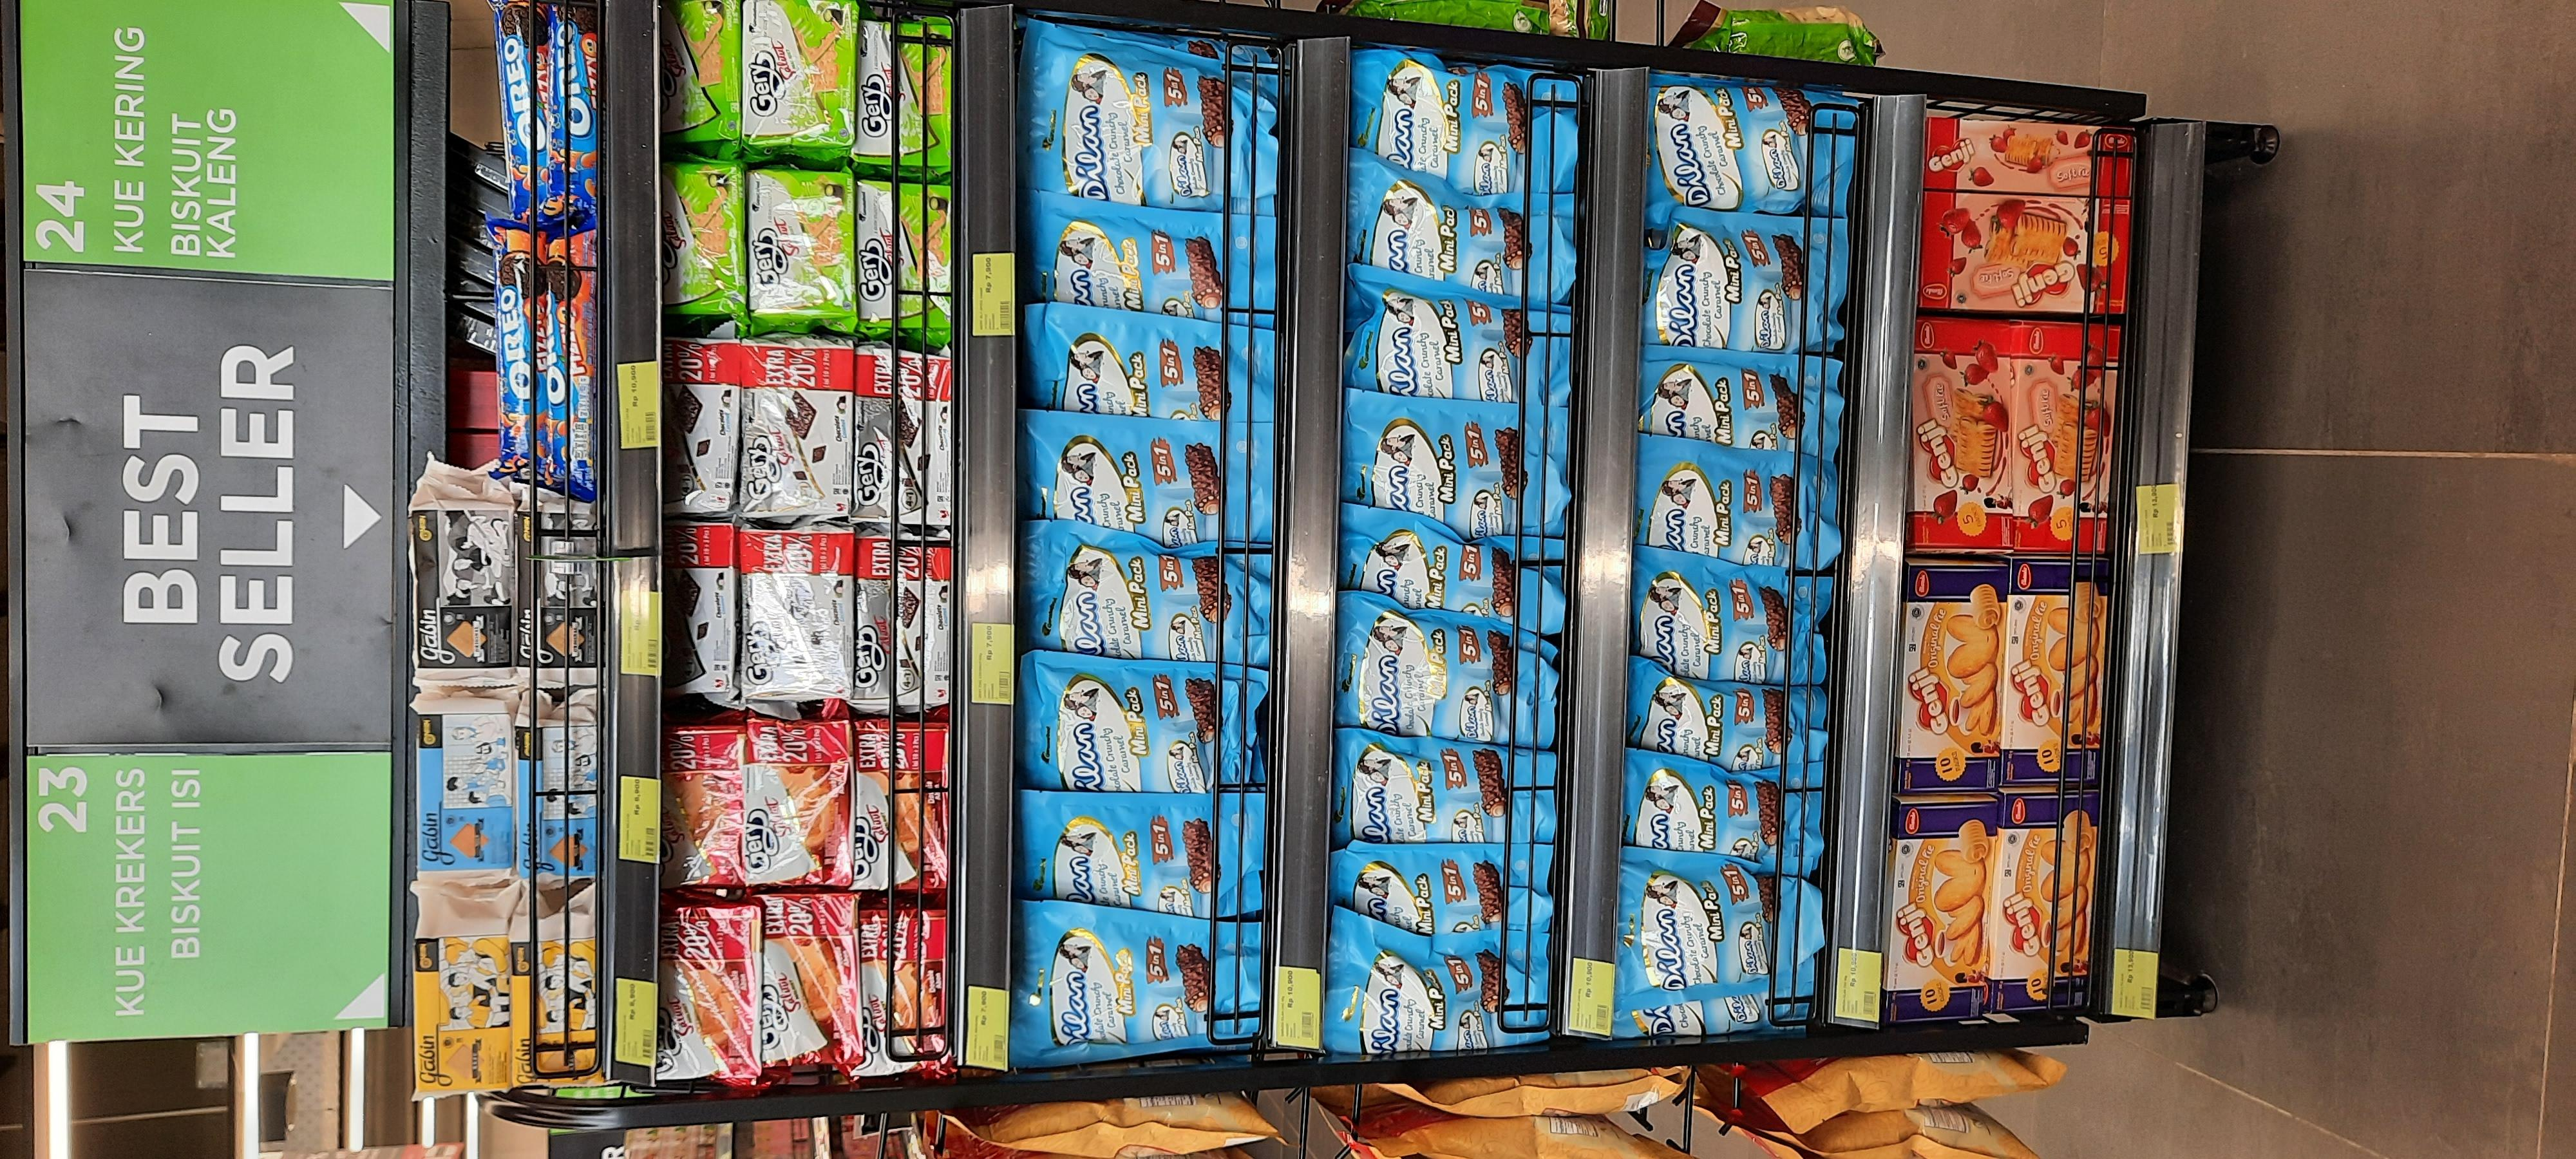90101225212101: (743, 2, 853, 146), (748, 171, 853, 320), (853, 23, 954, 166), (856, 182, 954, 328)
90101225218101: (744, 346, 853, 515), (854, 348, 954, 525), (856, 538, 954, 706)
90101225226101: (739, 529, 853, 696), (741, 721, 853, 886), (659, 908, 762, 1082), (759, 896, 858, 1069), (853, 721, 950, 891), (854, 911, 948, 1077)
90101232211100: (1019, 23, 1280, 207), (1012, 905, 1263, 1067), (1017, 653, 1267, 790), (1620, 850, 1828, 1000), (1354, 62, 1582, 197), (1327, 926, 1549, 1061), (1651, 80, 1855, 220), (1638, 218, 1850, 348)
GenjiOriginalPie: (1883, 798, 1994, 1016), (1902, 563, 2004, 791), (1994, 791, 2101, 1006), (2009, 558, 2106, 785)
GenjiSoftPie: (1917, 189, 2132, 310), (2016, 322, 2123, 553), (1912, 318, 2011, 552), (1924, 117, 2132, 194)
NissinGabinCheese: (414, 937, 509, 1090), (511, 936, 601, 1088)
NissinGabinMilk: (417, 712, 514, 868), (516, 724, 598, 880)
NissinGabinOriginal: (411, 509, 514, 670), (514, 512, 596, 671)
OreoFizzy: (488, 223, 549, 479), (544, 0, 601, 218), (547, 230, 596, 483), (498, 0, 549, 212)
